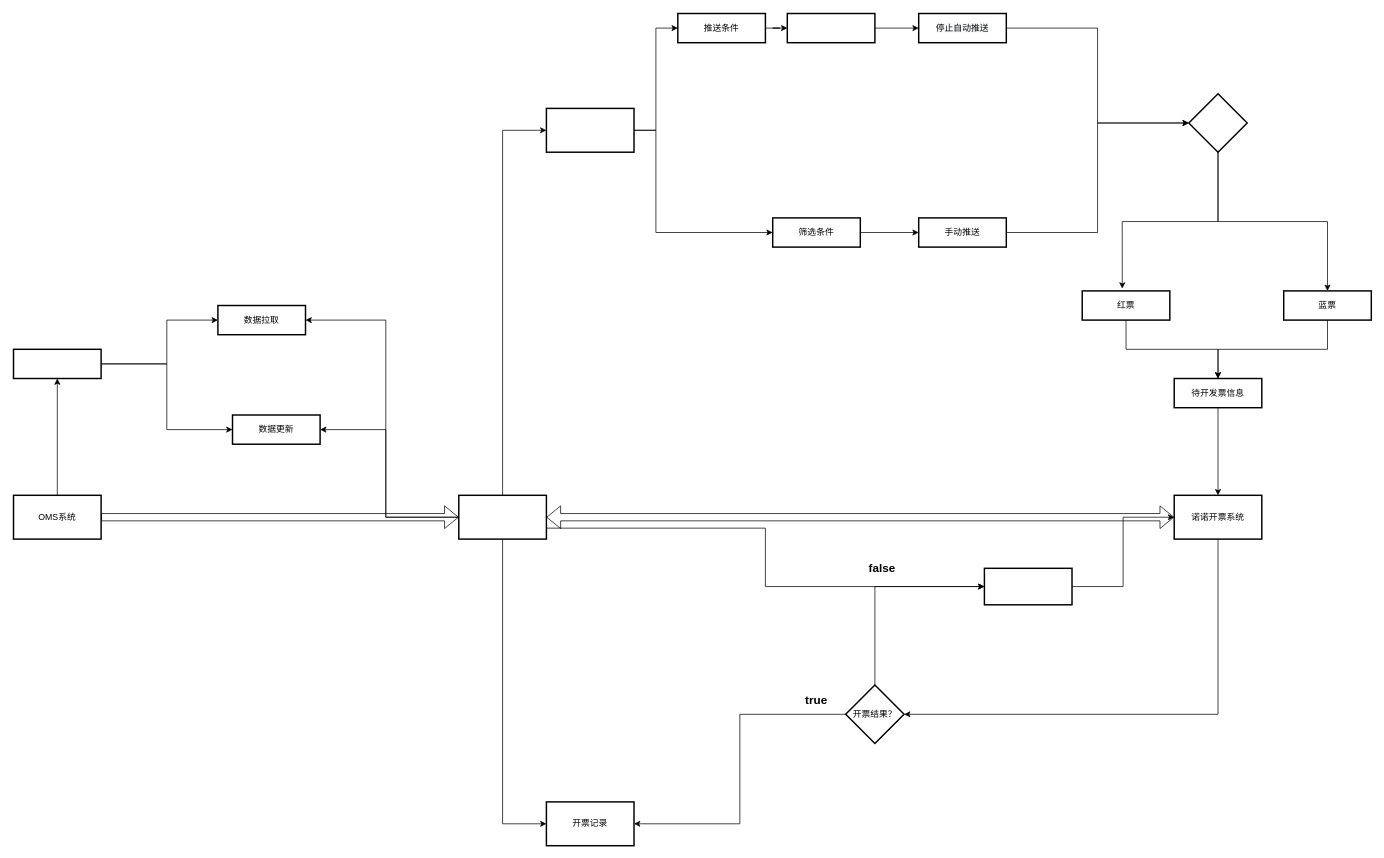
Some shapes in this 1384 by 858 pixel diagram are drawn without their labels. Each missing label, with the box of its shape:
发起查询: (983, 567, 1072, 605)
是否有标识: (1188, 93, 1248, 153)
自动推送: (786, 12, 875, 43)
订单列表: (545, 107, 634, 153)
订单数据: (12, 348, 101, 379)
雅棉开票系统: (458, 494, 547, 539)
